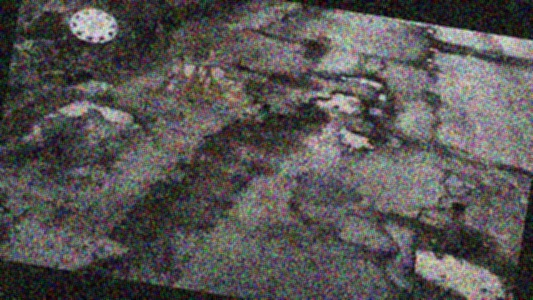pothole: (400, 215, 520, 300), (161, 56, 263, 112), (312, 84, 362, 116), (93, 100, 139, 127), (335, 68, 387, 91), (336, 124, 378, 152)
